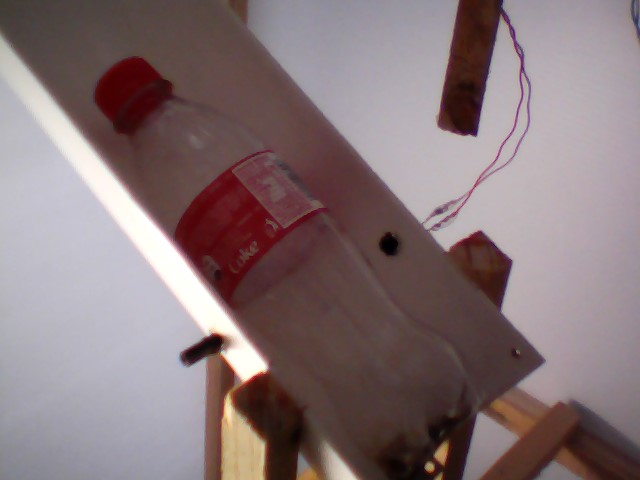plastico: (86, 48, 490, 480)
